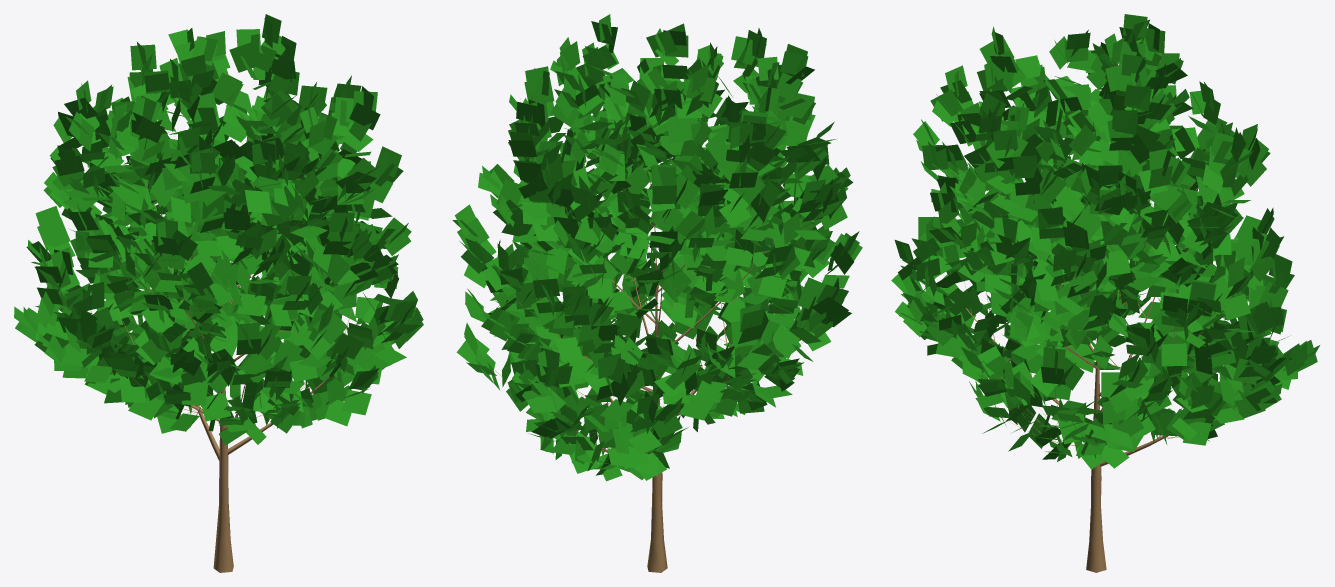
The model's file is cereja-do-mato.fbx.
The picture shows the model from 3 angles, left to right: view 1: azimuth 30°, elevation 25°; view 2: azimuth 150°, elevation 25°; view 3: azimuth 270°, elevation 25°; orthographic projection.
Parts seen in each view (by area): view 1: instance_1, level_1; view 2: instance_1, level_1; view 3: instance_1, level_1.
Boxes of the visible parts, box(x1,y1,x2,y2) form: instance_1: box(14, 14, 423, 445); level_1: box(65, 106, 386, 572); instance_1: box(452, 14, 862, 481); level_1: box(495, 109, 828, 572); instance_1: box(891, 14, 1319, 469); level_1: box(928, 67, 1272, 572).
Bounding box in the file's own units: 23913 × 32542 × 24230.
